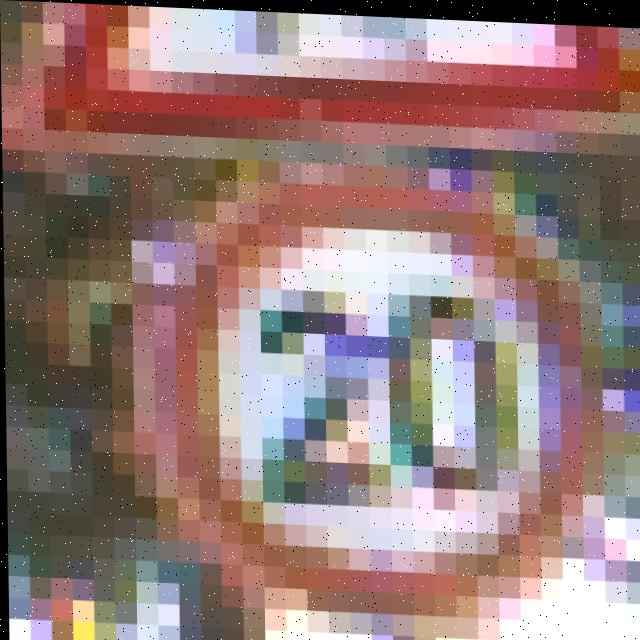speed_limit_20: (148, 176, 626, 639)
